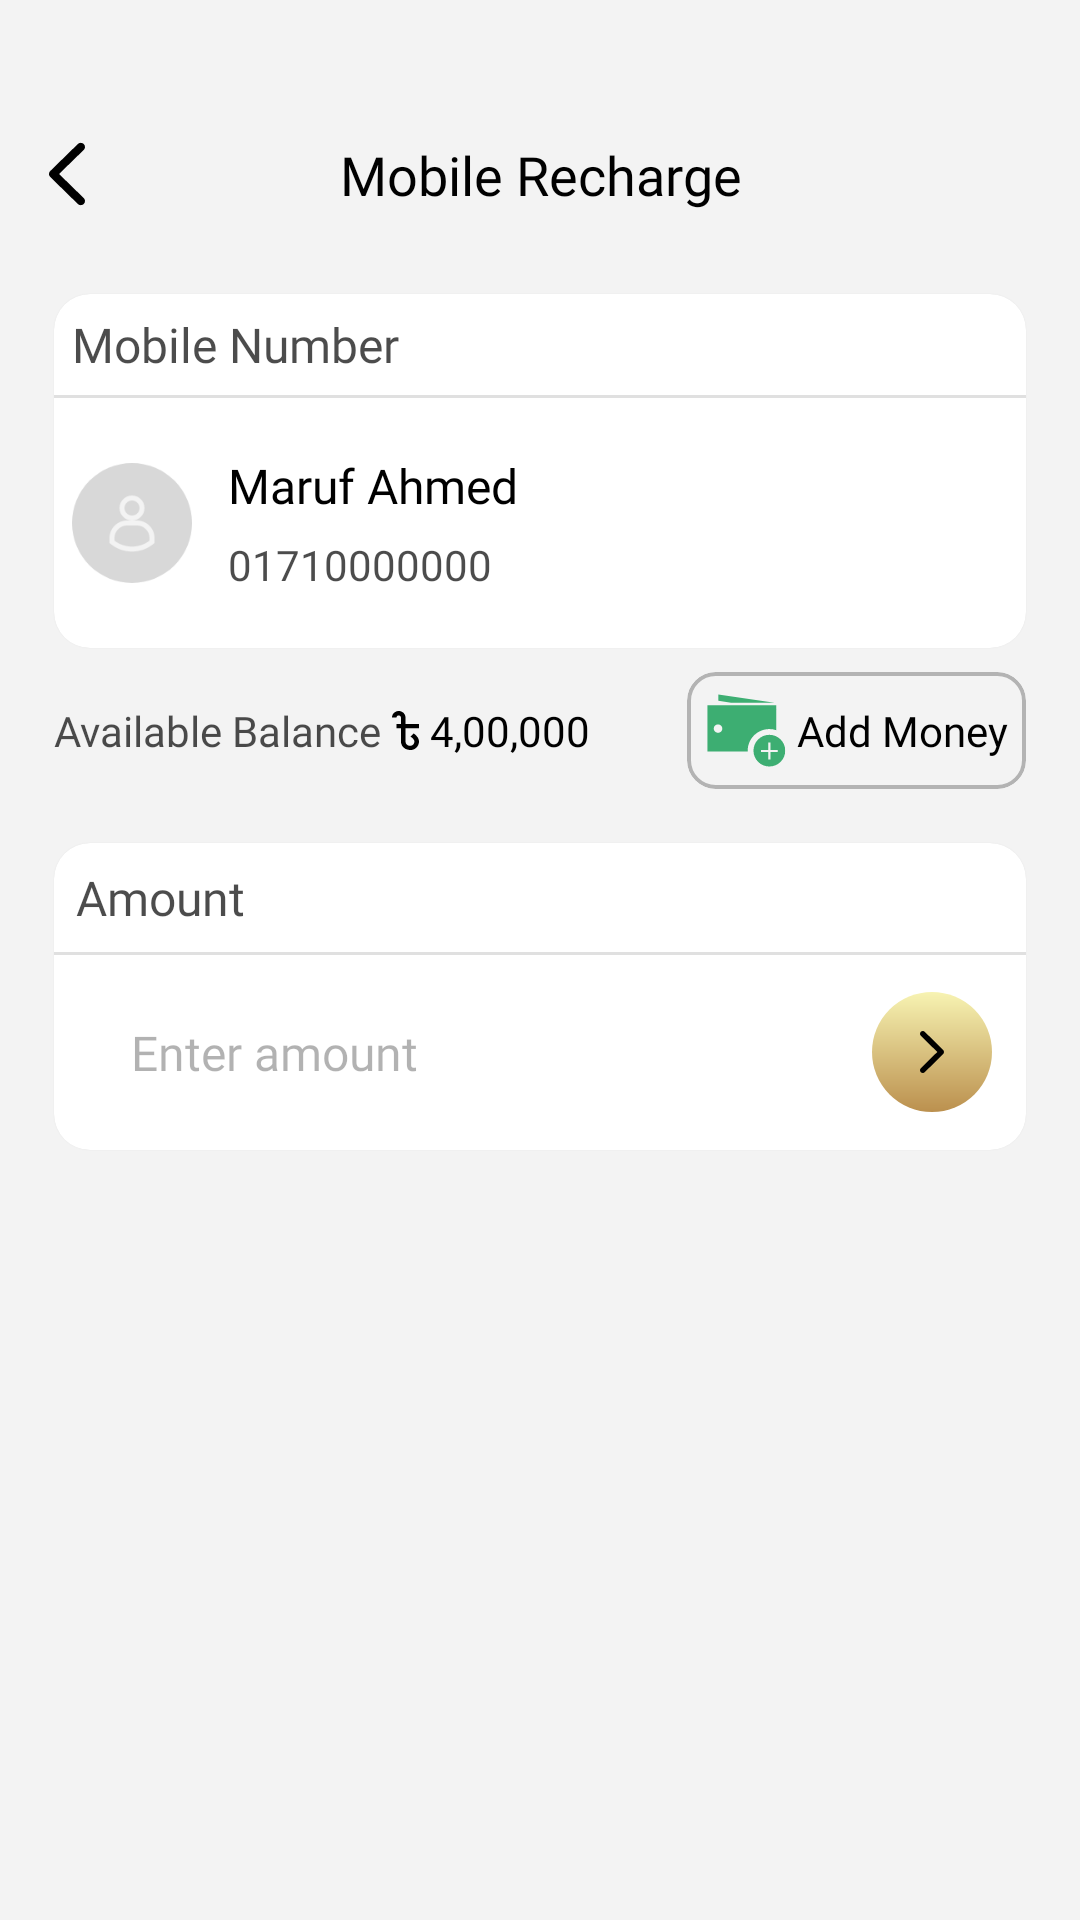

Screen size 1080x1920. Icon name, then its center in pixels as (x=x, y=y):
back: (x=67, y=174)
profile contact: (x=132, y=523)
